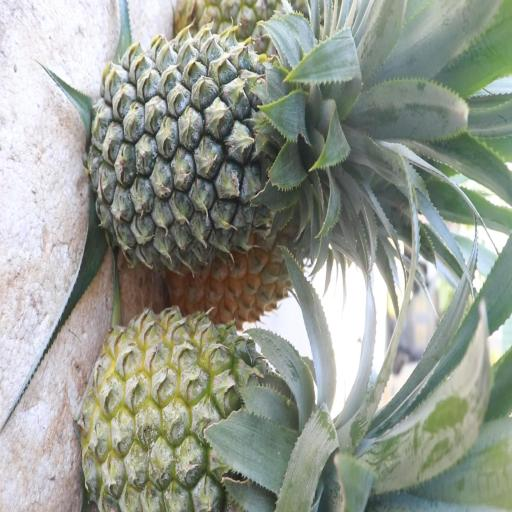------------------------------: (86, 312, 351, 512)
